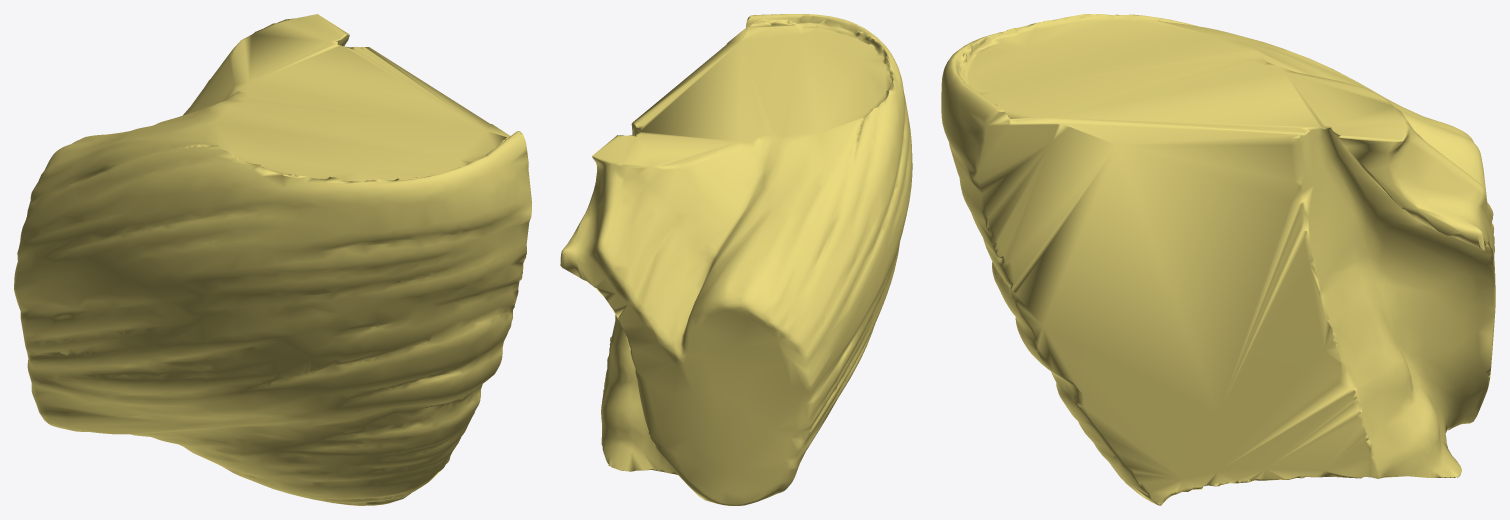
Rendered from pons-r.glb.
The picture shows the model from 3 angles, left to right: view 1: azimuth 30°, elevation 25°; view 2: azimuth 150°, elevation 25°; view 3: azimuth 270°, elevation 25°; orthographic projection. The views are drawn at different scales.
Parts seen in each view (by area): view 1: Pons.r; view 2: Pons.r; view 3: Pons.r.
Part boxes in pixels (x1=…): Pons.r: x1=14, y1=14, x2=531, y2=505; Pons.r: x1=560, y1=14, x2=912, y2=505; Pons.r: x1=941, y1=14, x2=1495, y2=505.
Size of the model in its own units: 0.0206 by 0.0278 by 0.0334.
